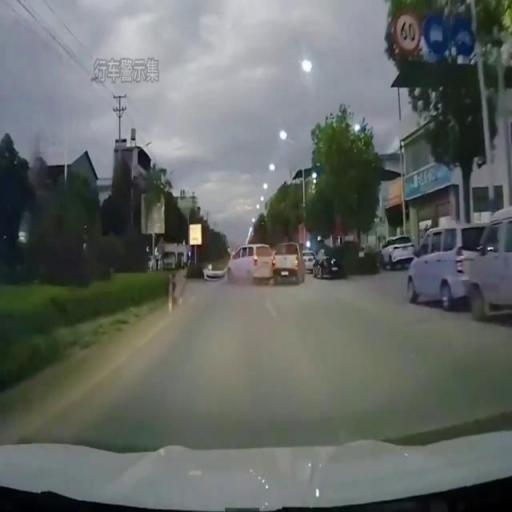Car: (403, 217, 480, 309), (464, 210, 512, 316), (229, 239, 274, 287), (379, 237, 414, 278), (273, 243, 305, 287)
Minor Accident: (227, 244, 304, 282)
Not Accident: (369, 195, 512, 330)
